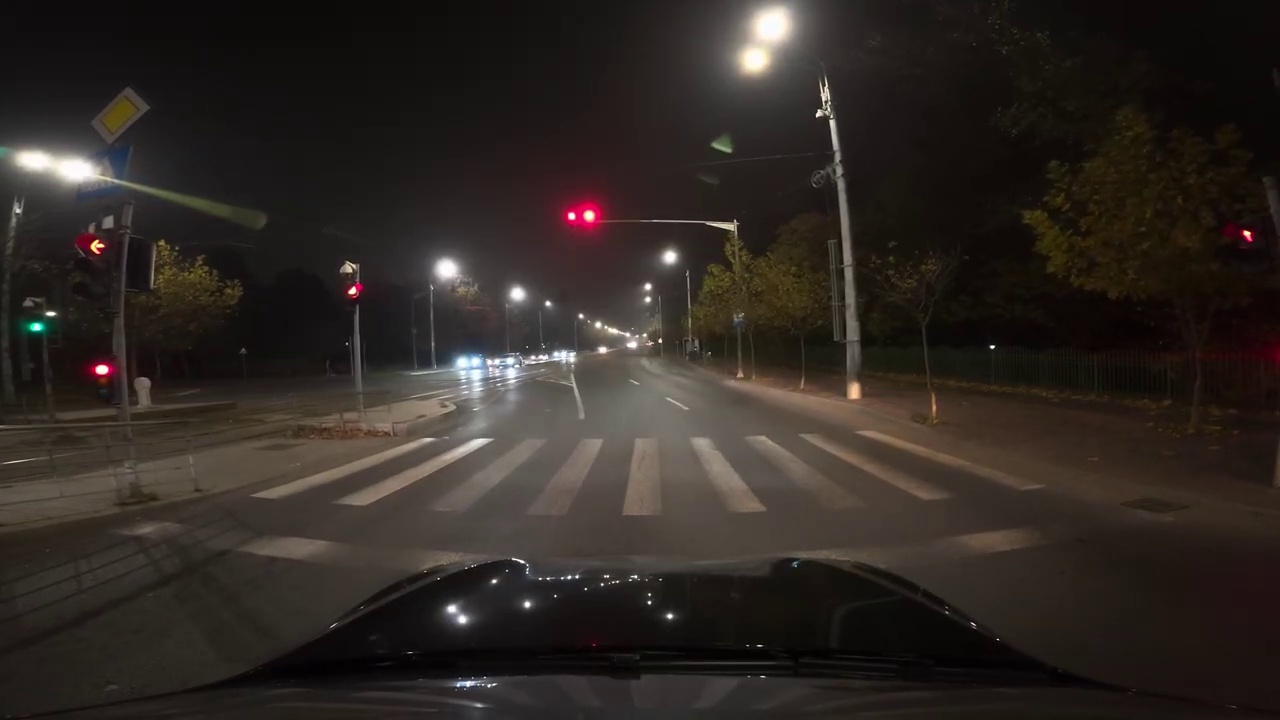acesa: (740, 7, 793, 69), (747, 8, 792, 47), (566, 200, 602, 229), (432, 255, 462, 285), (657, 245, 682, 269), (506, 283, 530, 307)
